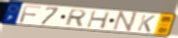7: (40, 6, 61, 25)
F: (18, 5, 44, 24)
H: (85, 10, 112, 30)
K: (136, 14, 157, 34)
N: (111, 11, 139, 33)
R: (63, 9, 88, 27)
